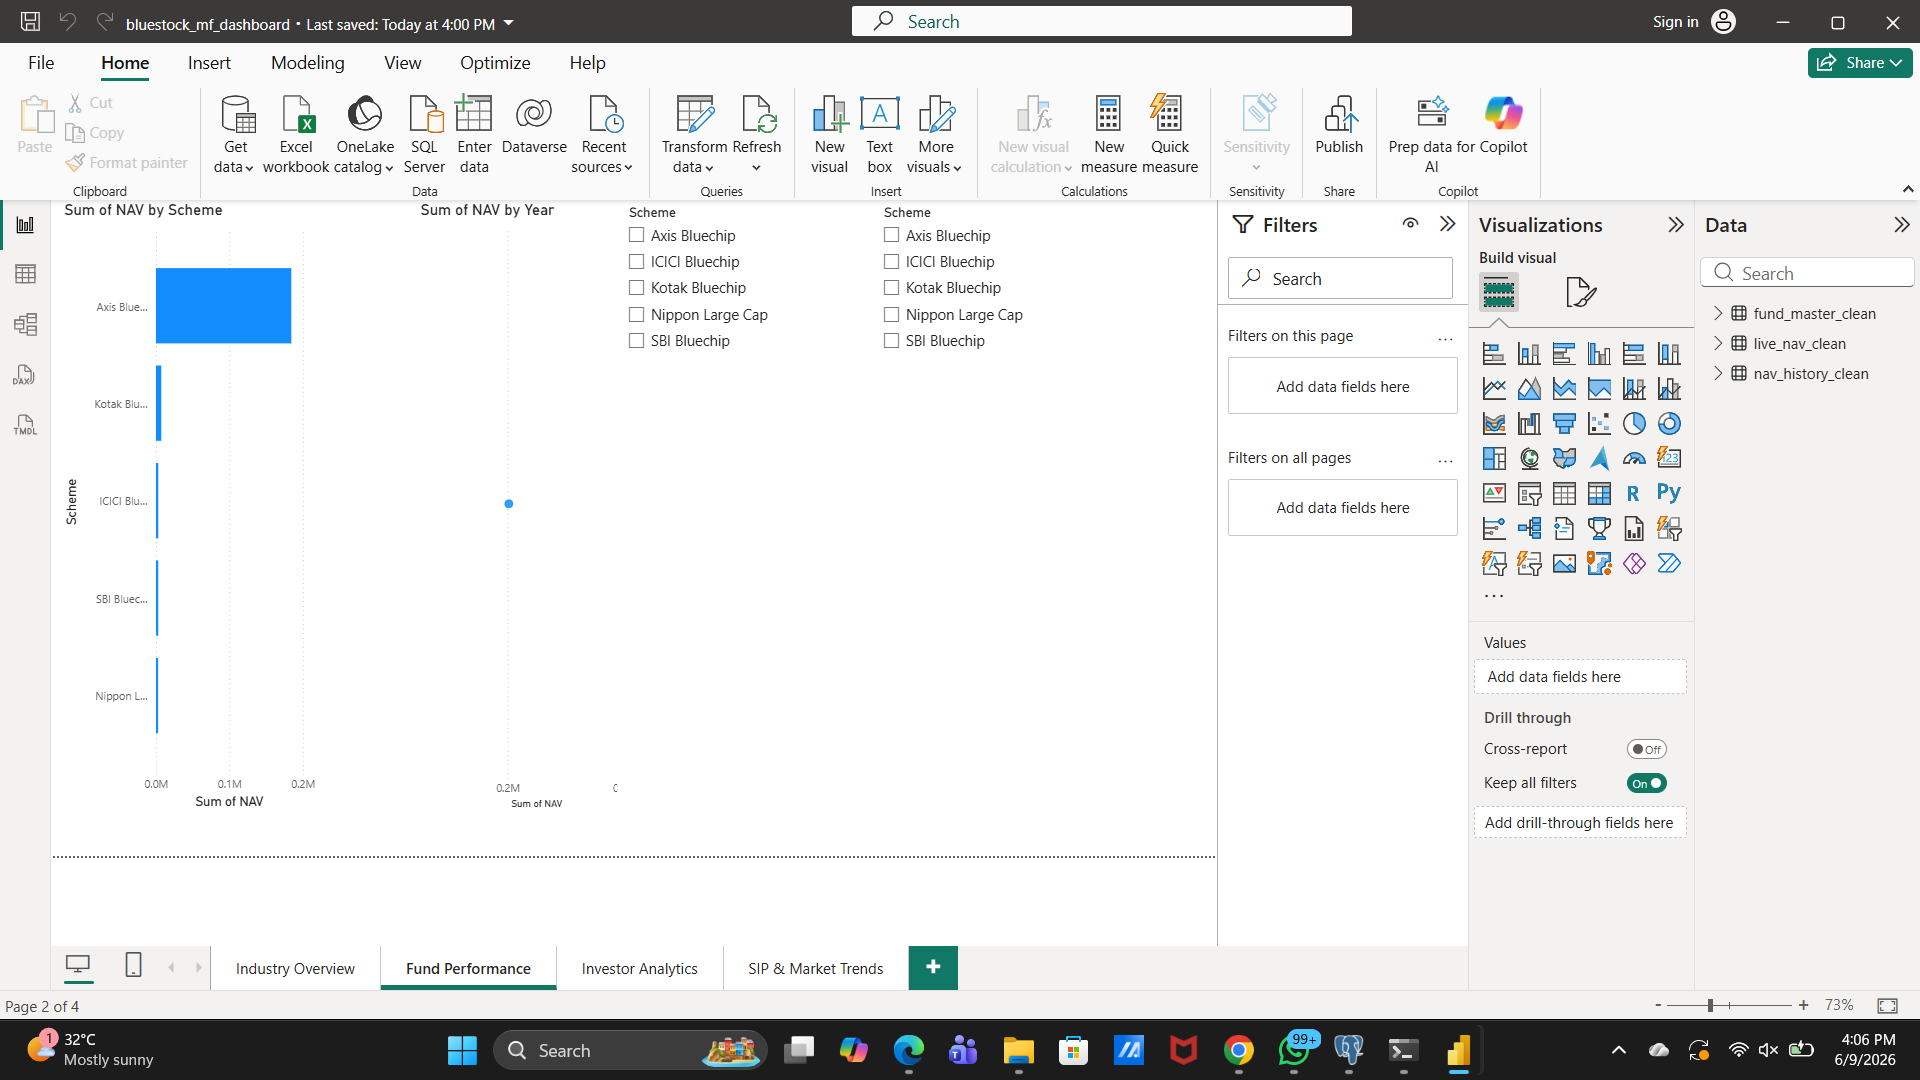

Layout of this report page (visuals, bound fields, positions):
{"tool":"powerbi","page":{"name":"Fund Performance","canvas":[1280,720],"ordinal":1},"visuals":[{"type":"clusteredBarChart","fields":{"Category":["nav_history_clean.Scheme"],"Y":["Sum(nav_history_clean.NAV)"]},"box":[10,0,286,674],"z":0},{"type":"scatterChart","fields":{"Category":["nav_history_clean.Date.Variation.Date Hierarchy.Year","nav_history_clean.Date.Variation.Date Hierarchy.Quarter","nav_history_clean.Date.Variation.Date Hierarchy.Month","nav_history_clean.Date.Variation.Date Hierarchy.Day","nav_history_clean.Scheme"],"X":["Sum(nav_history_clean.NAV)"]},"box":[401,0,248,674],"z":1000},{"type":"slicer","fields":{"Values":["nav_history_clean.Scheme"]},"box":[902,0,378,674],"z":2000},{"type":"slicer","fields":{"Values":["nav_history_clean.Scheme"]},"box":[622,0,285,674],"z":3000}]}

Visuals, with their boxes on the page's 1280x720 design canvas (x1, y1, x2, y2). These are canvas units, not pixel positions in the 1920x1080 screenshot, which may show the page scaled, cropped or inside an application window:
clusteredBarChart - nav_history_clean.Scheme x Sum(nav_history_clean.NAV): x1=10 y1=0 x2=296 y2=674
scatterChart - nav_history_clean.Date.Variation.Date Hierarchy.Year x nav_history_clean.Date.Variation.Date Hierarchy.Quarter: x1=401 y1=0 x2=649 y2=674
slicer - nav_history_clean.Scheme: x1=902 y1=0 x2=1280 y2=674
slicer - nav_history_clean.Scheme: x1=622 y1=0 x2=907 y2=674
